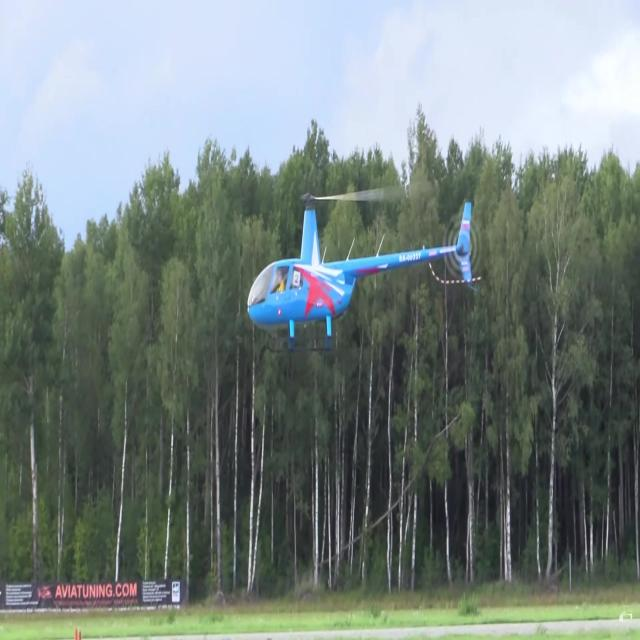CIV_HELO: (245, 189, 477, 358)
